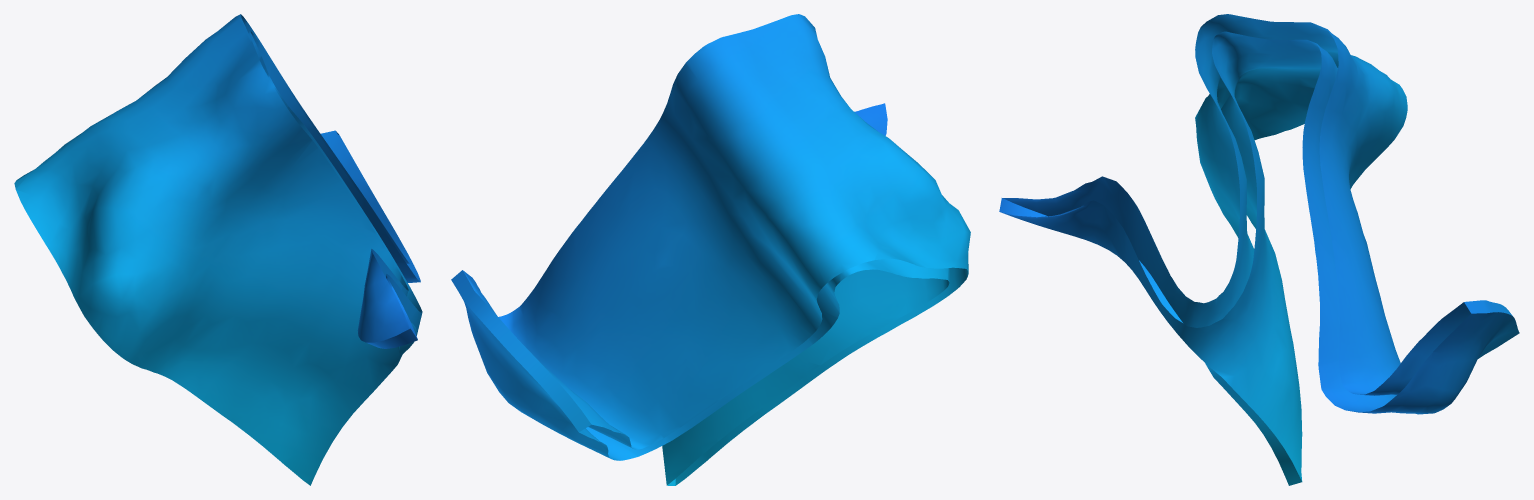
The model's file is s1_arm.fbx.
3 renders of one model, left to right at view 1: azimuth 30°, elevation 25°; view 2: azimuth 150°, elevation 25°; view 3: azimuth 270°, elevation 25°, orthographic. The views are drawn at different scales.
Visible parts, largest first — view 1: s1_arm; view 2: s1_arm; view 3: s1_arm.
Part boxes in pixels (x1,y1,x2,y2): s1_arm: (14, 14, 422, 485); s1_arm: (451, 14, 970, 485); s1_arm: (999, 14, 1519, 485).
Bounding box in the file's own units: 215 × 238 × 256.
